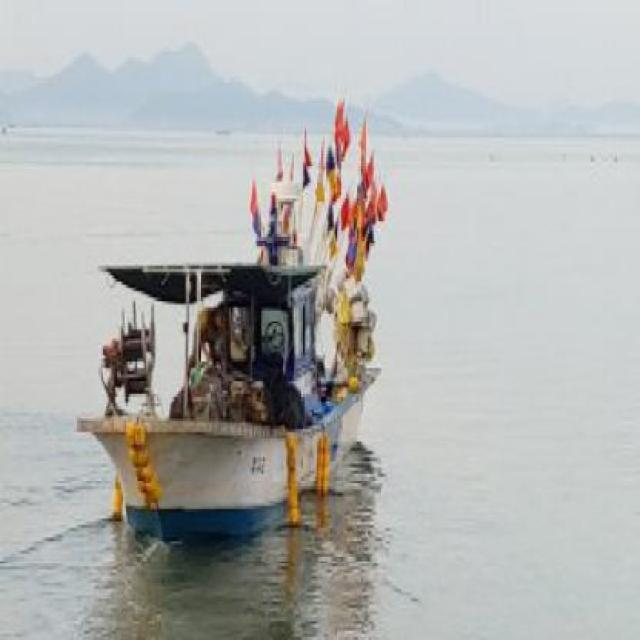fish-b: (63, 90, 400, 570)
